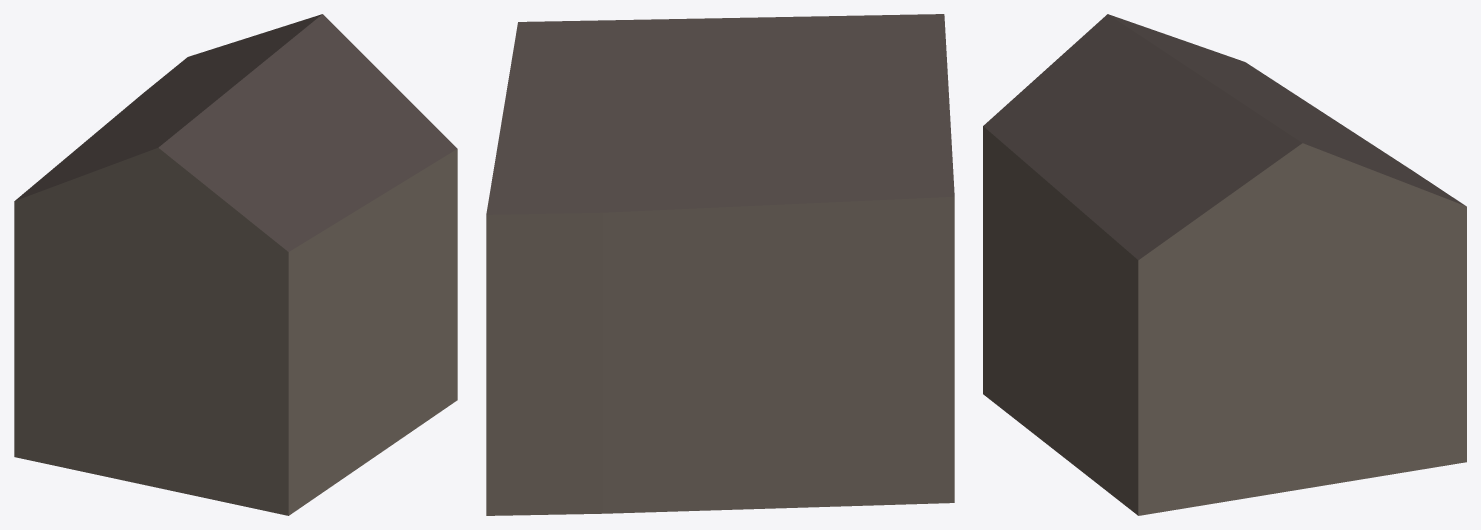
The picture shows the model from 3 angles, left to right: view 1: azimuth 30°, elevation 25°; view 2: azimuth 150°, elevation 25°; view 3: azimuth 270°, elevation 25°; orthographic projection. The views are drawn at different scales.
Visible parts, largest first — view 1: HP-w1198840851; view 2: HP-w1198840851; view 3: HP-w1198840851.
Boxes of the visible parts, left/top/right/bottom form: HP-w1198840851: left=14, top=14, right=457, bottom=515; HP-w1198840851: left=486, top=14, right=954, bottom=515; HP-w1198840851: left=983, top=14, right=1466, bottom=515.
Bounding box in the file's own units: 9.76 × 8.12 × 10.29.
